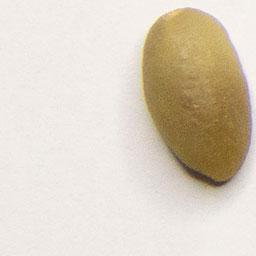longberry: (138, 5, 256, 190)
